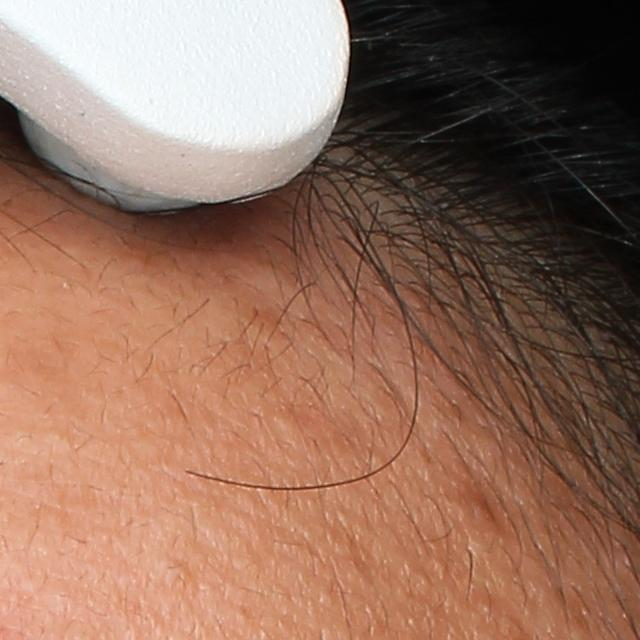comedo: (272, 406, 304, 439)
